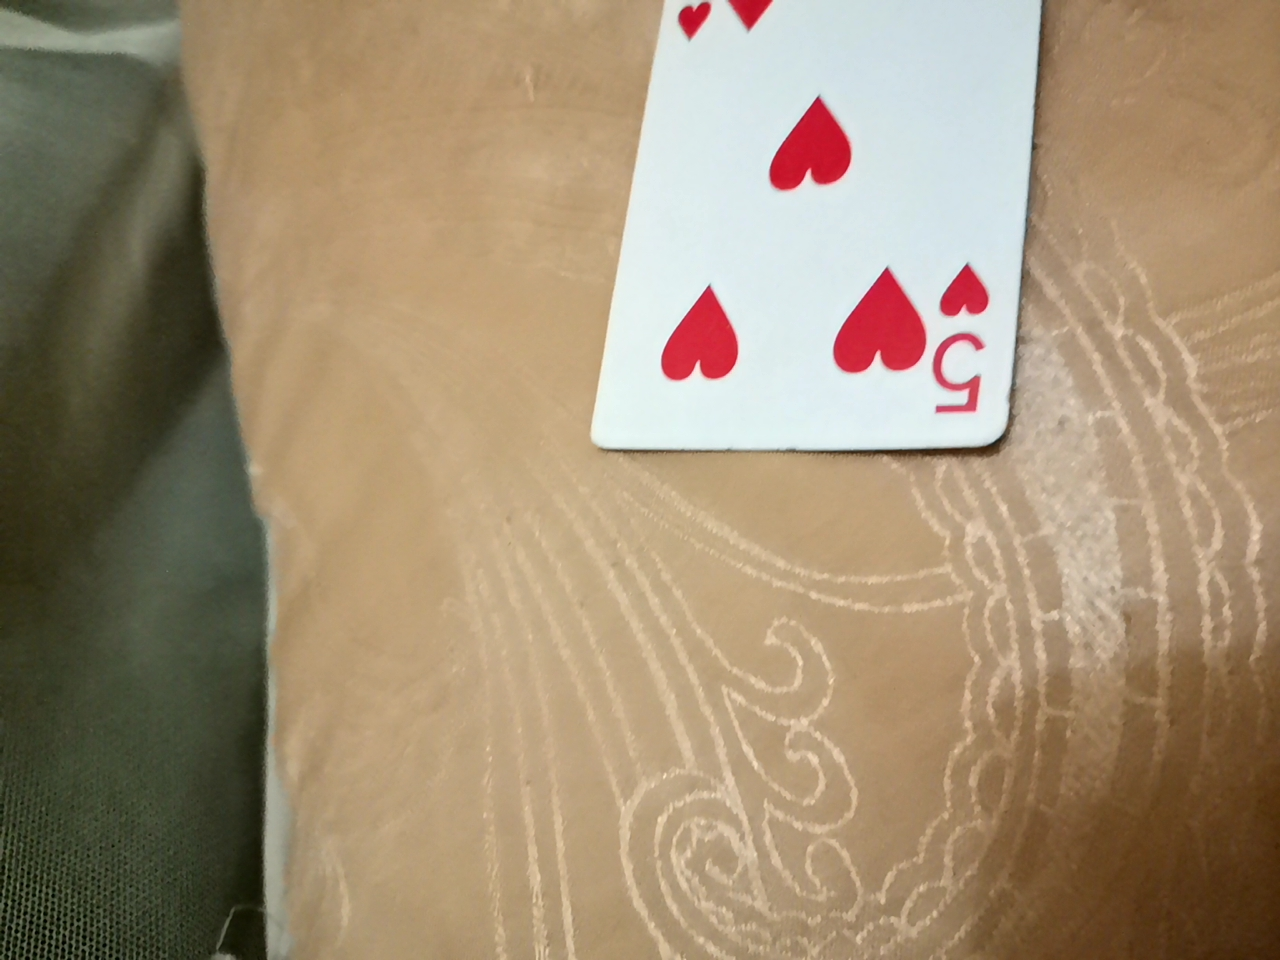hx 5: (597, 5, 1058, 412)
